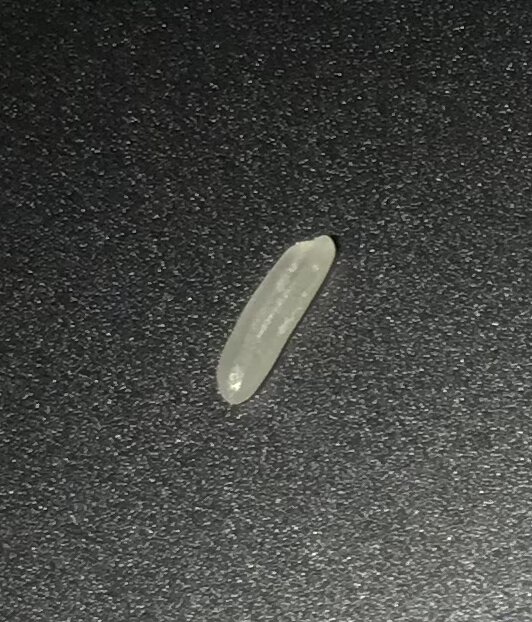Gao Long Lai: (214, 231, 340, 411)
